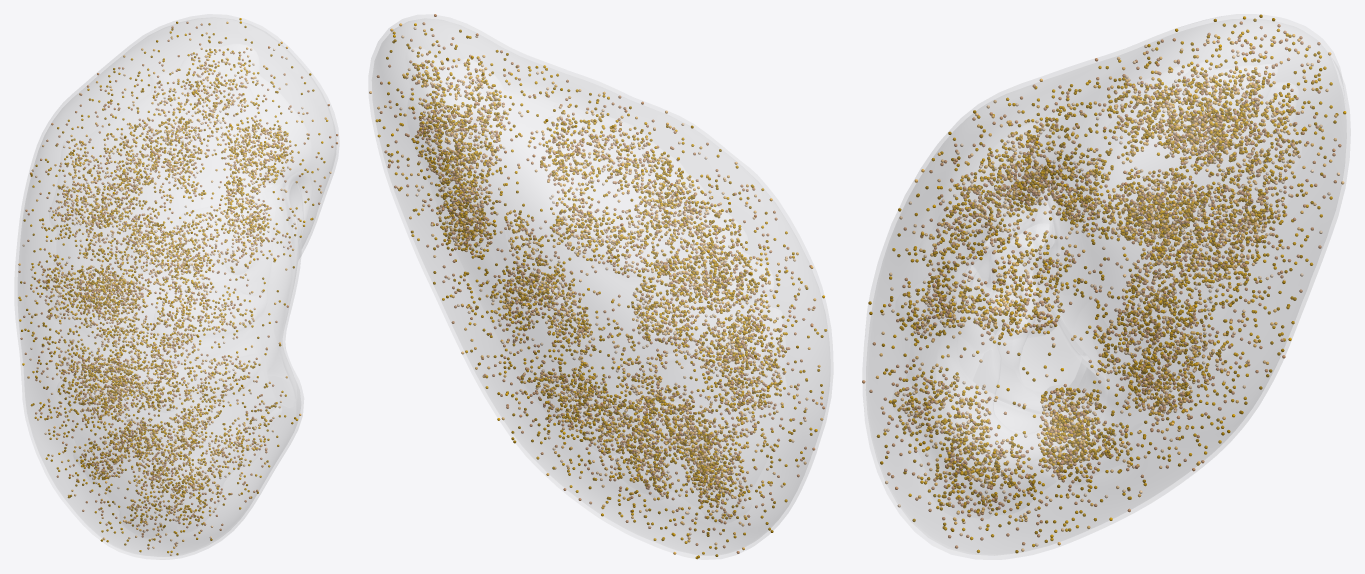
The model's file is 3d-vh-f-kidney-r-UBERON_0004539-all-as-azimuth-sphere-hra-pop.glb.
The picture shows the model from 3 angles, left to right: view 1: azimuth 30°, elevation 25°; view 2: azimuth 150°, elevation 25°; view 3: azimuth 270°, elevation 25°; orthographic projection. The views are drawn at different scales.
Visible parts, largest first — view 1: VH_F_kidney_capsule_R, VH_F_outer_cortex_of_kidney_R, VH_F_hilum_of_kidney_R; view 2: VH_F_kidney_capsule_R, VH_F_outer_cortex_of_kidney_R; view 3: VH_F_kidney_capsule_R, VH_F_outer_cortex_of_kidney_R, VH_F_hilum_of_kidney_R, VH_F_renal_column_R, VH_F_renal_pyramid_R_h.
Boxes of the visible parts, <box> form: VH_F_kidney_capsule_R: <box>15,14,338,559</box>; VH_F_outer_cortex_of_kidney_R: <box>18,18,334,555</box>; VH_F_hilum_of_kidney_R: <box>281,171,312,399</box>; VH_F_kidney_capsule_R: <box>369,15,832,559</box>; VH_F_outer_cortex_of_kidney_R: <box>373,20,828,554</box>; VH_F_kidney_capsule_R: <box>863,14,1350,559</box>; VH_F_outer_cortex_of_kidney_R: <box>868,19,1345,553</box>; VH_F_hilum_of_kidney_R: <box>936,176,1098,467</box>; VH_F_renal_column_R: <box>968,204,1085,411</box>; VH_F_renal_pyramid_R_h: <box>973,248,1053,338</box>.
Bounding box in the file's own units: 0.0734 × 0.0979 × 0.0696.
